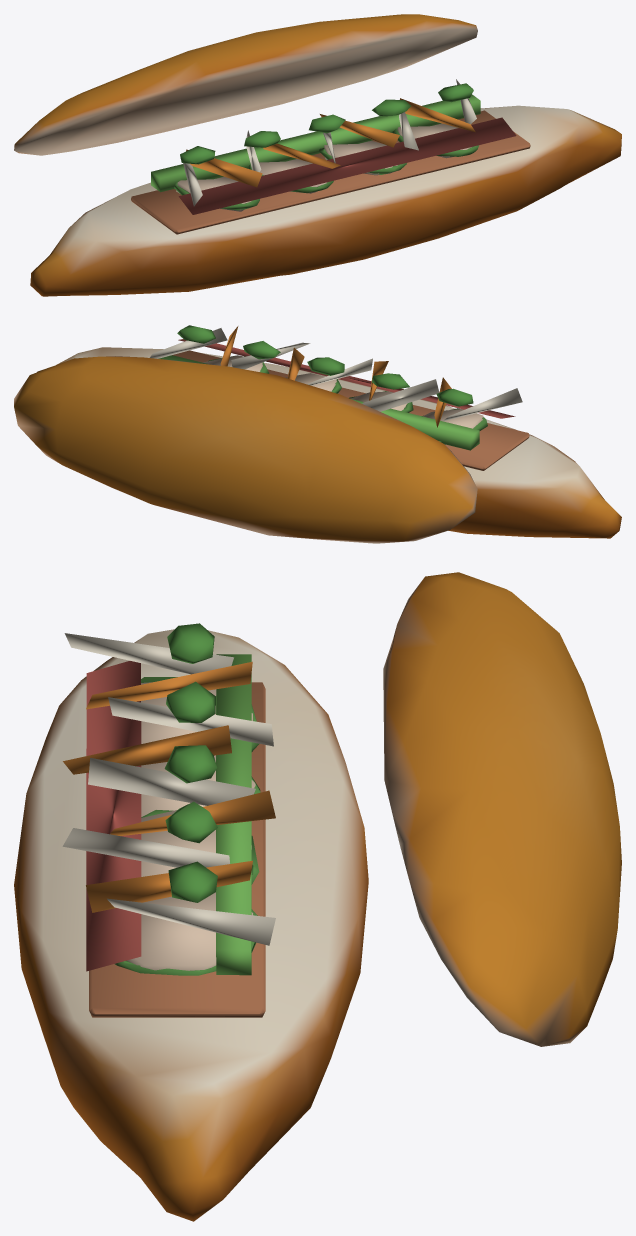
File: banh_bo.glb
3 views of the same model, one above another, from view 1: azimuth 30°, elevation 25°; view 2: azimuth 150°, elevation 25°; view 3: azimuth 270°, elevation 25° (orthographic). The views are drawn at different scales.
Parts seen in each view (by area): view 1: banh_bo; view 2: banh_bo; view 3: banh_bo.
Boxes of the visible parts, x1,y1,x2,y2 form: banh_bo: (14, 14, 621, 296); banh_bo: (14, 325, 621, 543); banh_bo: (14, 572, 621, 1221).
Size of the model in its own units: 0.3645 by 0.0875 by 0.1723.
